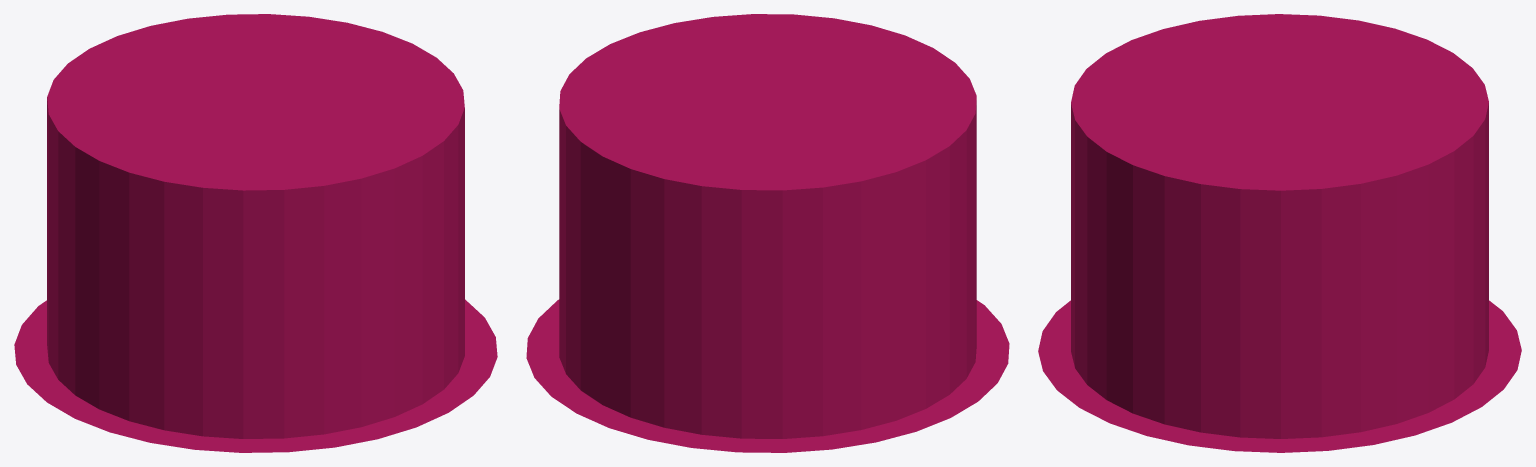
The model's file is center.obj.
3 views of the same model, side by side, from view 1: azimuth 30°, elevation 25°; view 2: azimuth 150°, elevation 25°; view 3: azimuth 270°, elevation 25° (orthographic).
Visible parts, largest first — view 1: center; view 2: center; view 3: center.
Boxes of the visible parts, x1,y1,x2,y2 form: center: [14, 14, 497, 452]; center: [526, 14, 1009, 452]; center: [1038, 14, 1521, 452].
Size of the model in its own units: 0.2684 by 0.1521 by 0.2684.
